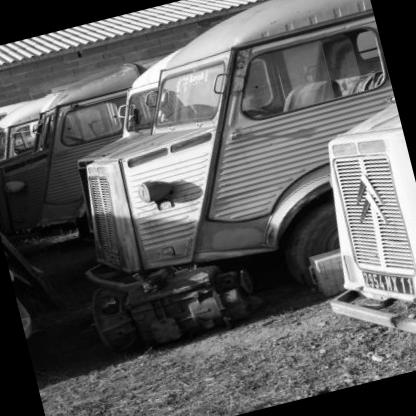car: (42, 1, 416, 366)
